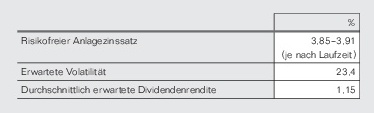table: (0, 0, 374, 113)
